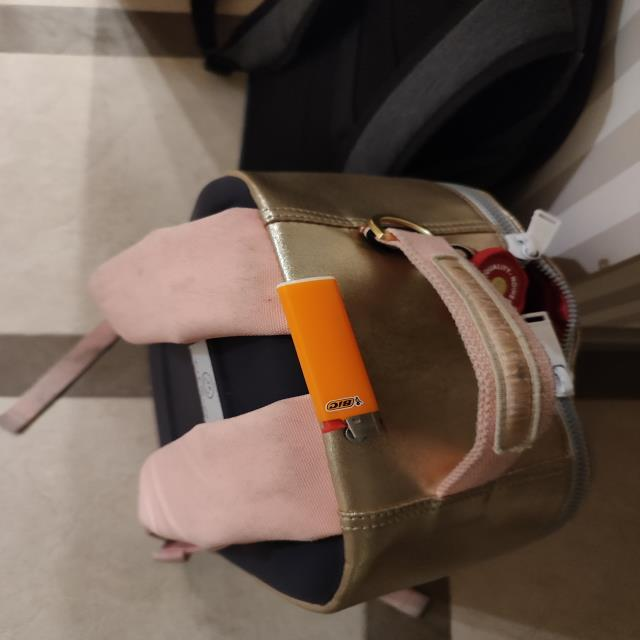lighter: (278, 278, 386, 441)
